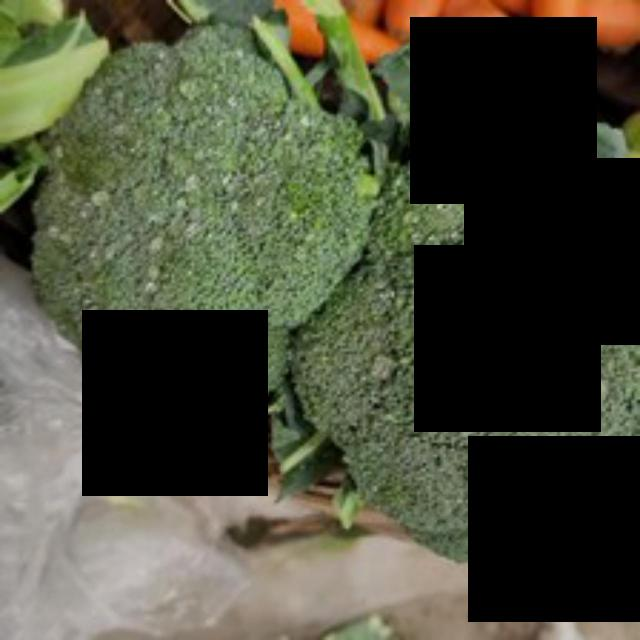broccoli: (294, 137, 637, 571)
